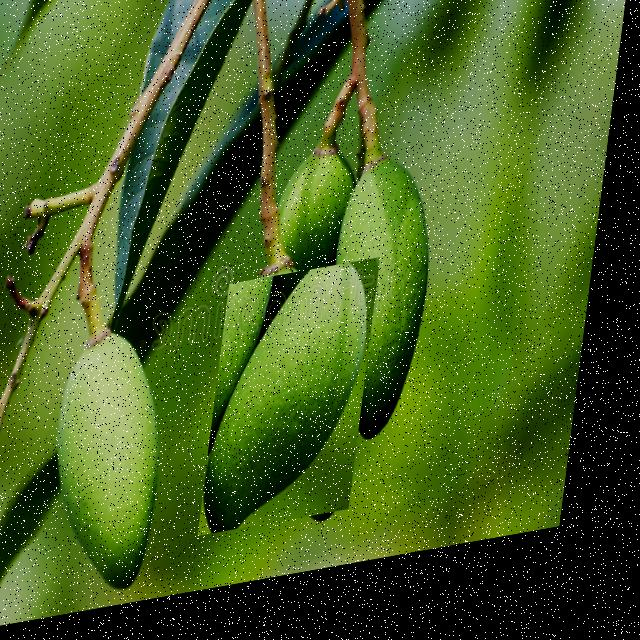raw-image: (322, 147, 469, 477), (213, 273, 389, 546), (266, 151, 358, 284)
